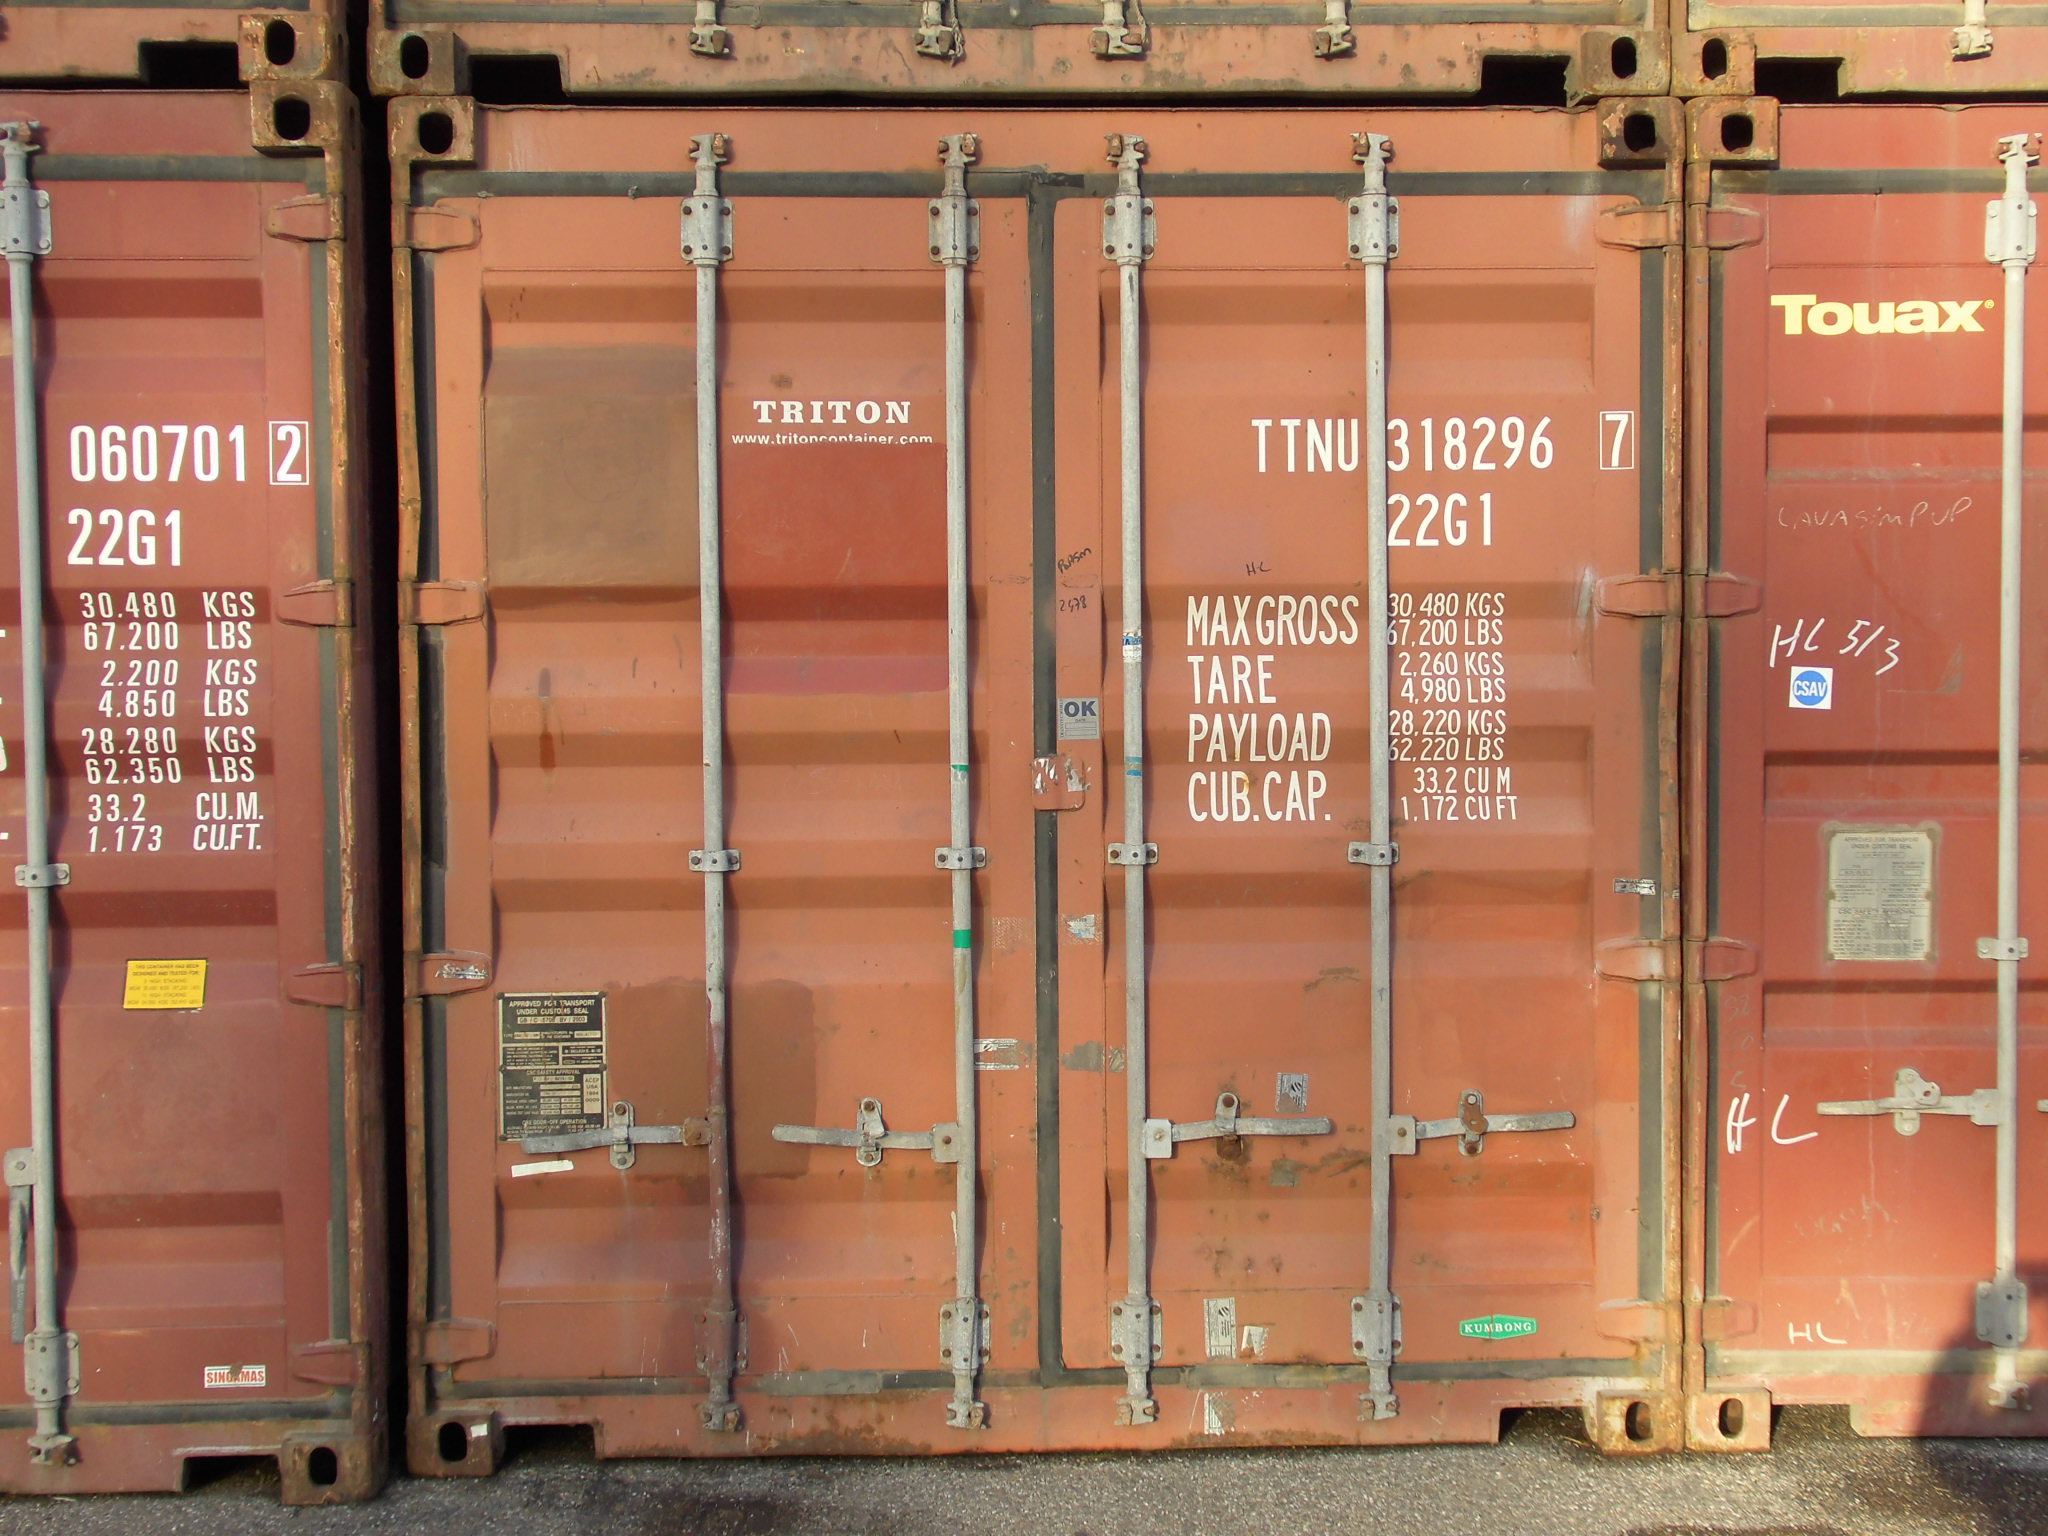container_door: (390, 97, 1698, 1455)
